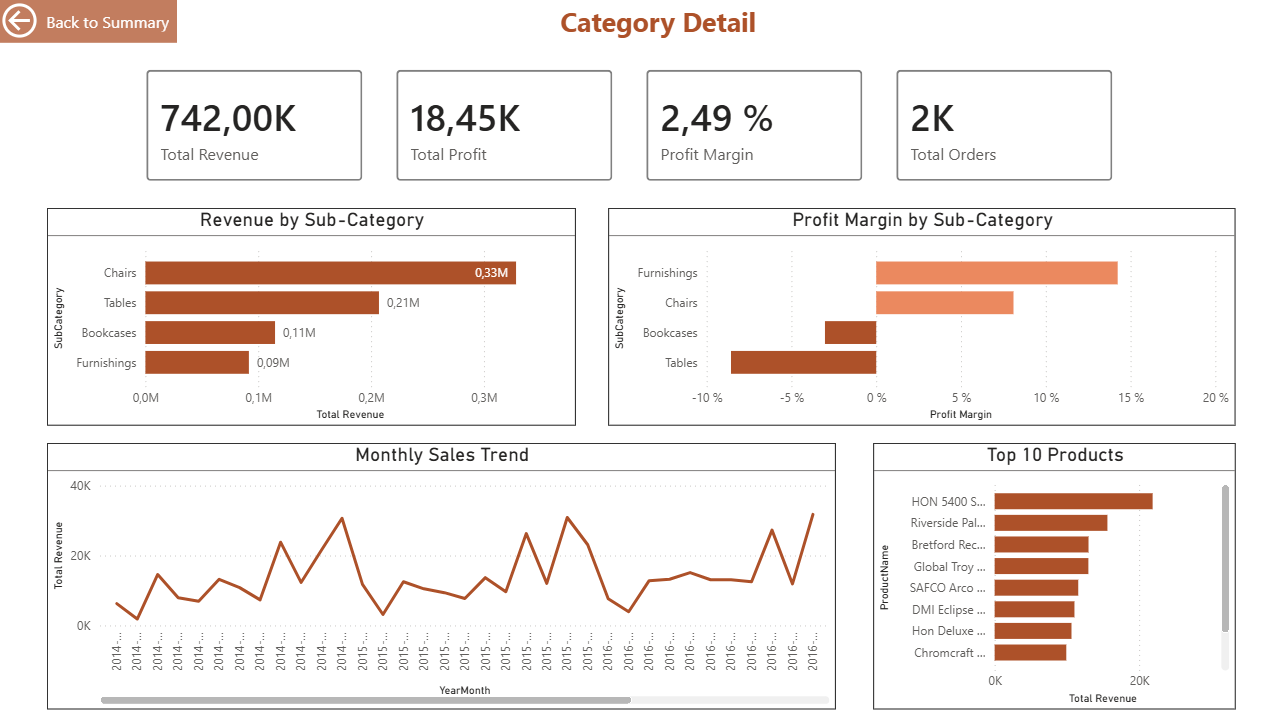

What the dashboard file says about the page in this screenshot:
{"tool":"powerbi","page":{"name":"Category Detail","canvas":[1280,720],"ordinal":4},"visuals":[{"type":"actionButton","box":[0,0,180,45],"z":0},{"type":"cardVisual","title":"Total Revenue","fields":{"Data":["Superstore.Total Sales"]},"box":[132,55,250,145],"z":1000},{"type":"cardVisual","title":"Total Revenue","fields":{"Data":["Superstore.Total Profit"]},"box":[382,55,250,145],"z":2000},{"type":"cardVisual","title":"Total Revenue","fields":{"Data":["Superstore.Profit Margin"]},"box":[632,55,250,145],"z":3000},{"type":"cardVisual","title":"Total Revenue","fields":{"Data":["Superstore.Total Orders"]},"box":[882,55,250,145],"z":4000},{"type":"textbox","box":[190,0,942.5,45],"z":5000},{"type":"clusteredBarChart","title":"Revenue by Sub-Category","fields":{"Category":["Superstore.SubCategory"],"Y":["Superstore.Total Revenue"]},"box":[50,210,528.8,217.5],"z":6000},{"type":"clusteredBarChart","title":"Profit Margin by Sub-Category","fields":{"Category":["Superstore.SubCategory"],"Y":["Superstore.Profit Margin %"]},"box":[611.2,210,627.5,217.5],"z":7000},{"type":"lineChart","title":"Monthly Sales Trend","fields":{"Category":["DateTable.YearMonth"],"Y":["Superstore.Total Revenue"]},"box":[50,445,788.8,266.2],"z":8000},{"type":"clusteredBarChart","title":"Top 10 Products","fields":{"Y":["Superstore.Total Revenue"],"Category":["Superstore.ProductName"]},"box":[876.2,445,362.5,266.2],"z":9000}]}

Visuals, with their boxes in screenshot pixels (x1, y1, x2, y2), scaled from the page's 1280x720 canvas onto the 1273x717 screenshot:
actionButton: [0,0,179,45]
"Total Revenue" cardVisual: [131,55,380,199]
"Total Revenue" cardVisual: [380,55,629,199]
"Total Revenue" cardVisual: [629,55,877,199]
"Total Revenue" cardVisual: [877,55,1126,199]
textbox: [189,0,1126,45]
"Revenue by Sub-Category" clusteredBarChart: [50,209,576,426]
"Profit Margin by Sub-Category" clusteredBarChart: [608,209,1232,426]
"Monthly Sales Trend" lineChart: [50,443,834,708]
"Top 10 Products" clusteredBarChart: [871,443,1232,708]
